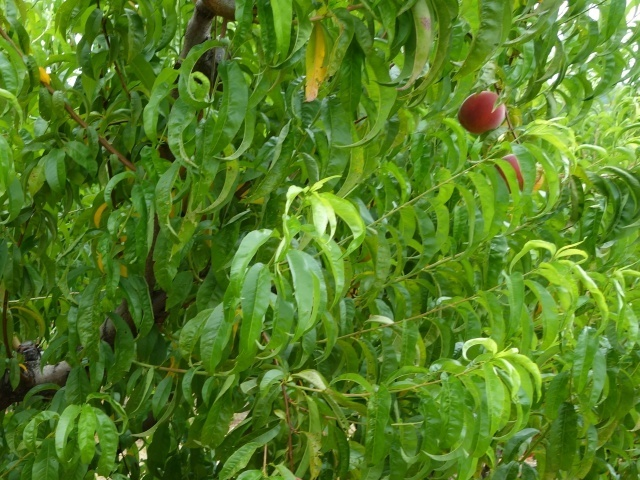peach: (454, 89, 510, 141), (494, 151, 528, 193)
